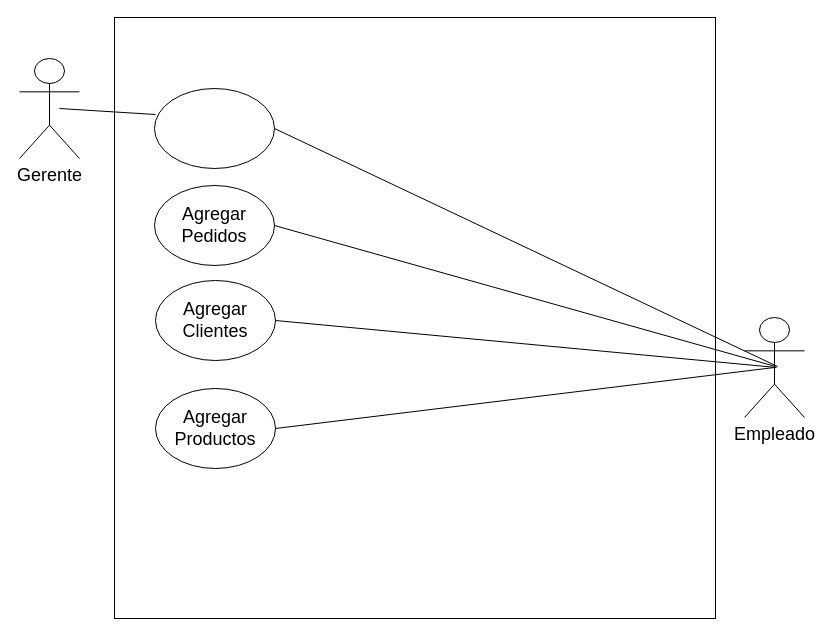
The diagram is 832 pixels wide and 636 high, and some of its shapes have lost their labels. The centre of each missing label's shape, as x and y in pixels:
Registro de Pedidos: the point at 414,50
Visualizar Pedidos: the point at 214,128
